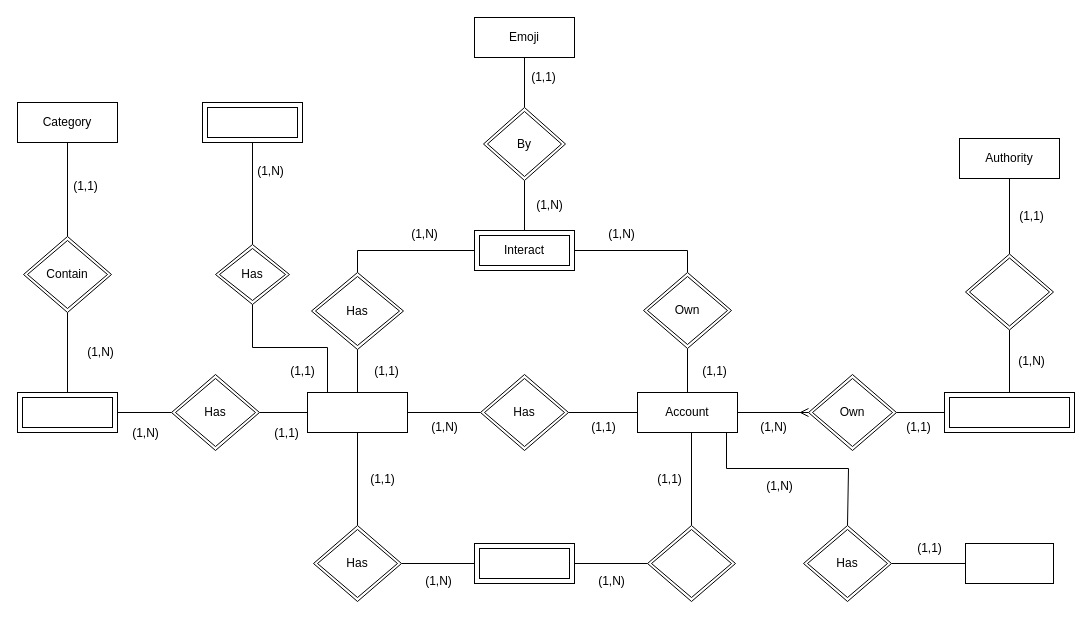
This 1092x619 diagram has some shape labels left out. The centre of each missing label's shape, as x and y in pixels:
Account_authority: [1009,412]
Comment: [524,563]
Lience: [1009,291]
Post: [357,412]
Post_category: [67,412]
Role: [1009,563]
Tag: [252,122]
Write: [691,563]
